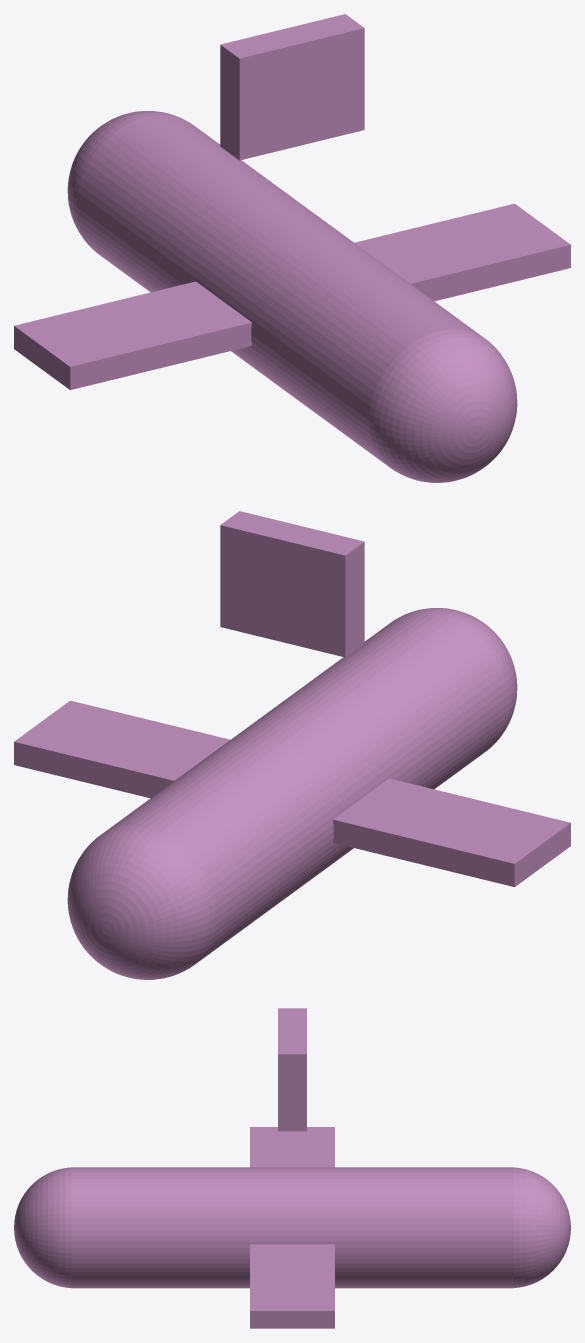
File: love_011.glb
3 views of the same model, one above another, from view 1: azimuth 30°, elevation 25°; view 2: azimuth 150°, elevation 25°; view 3: azimuth 270°, elevation 25° (orthographic). The views are drawn at different scales.
Visible parts, largest first — view 1: world; view 2: world; view 3: world.
Part boxes in pixels (box(x1,y1,x2,y2)): world: box(14, 14, 570, 482); world: box(14, 511, 570, 979); world: box(14, 1008, 570, 1328).
Size of the model in its own units: 1.8 by 1.14 by 2.3.
